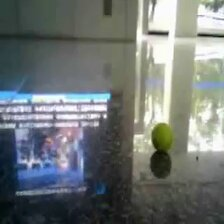tennis: (151, 122, 173, 151)
